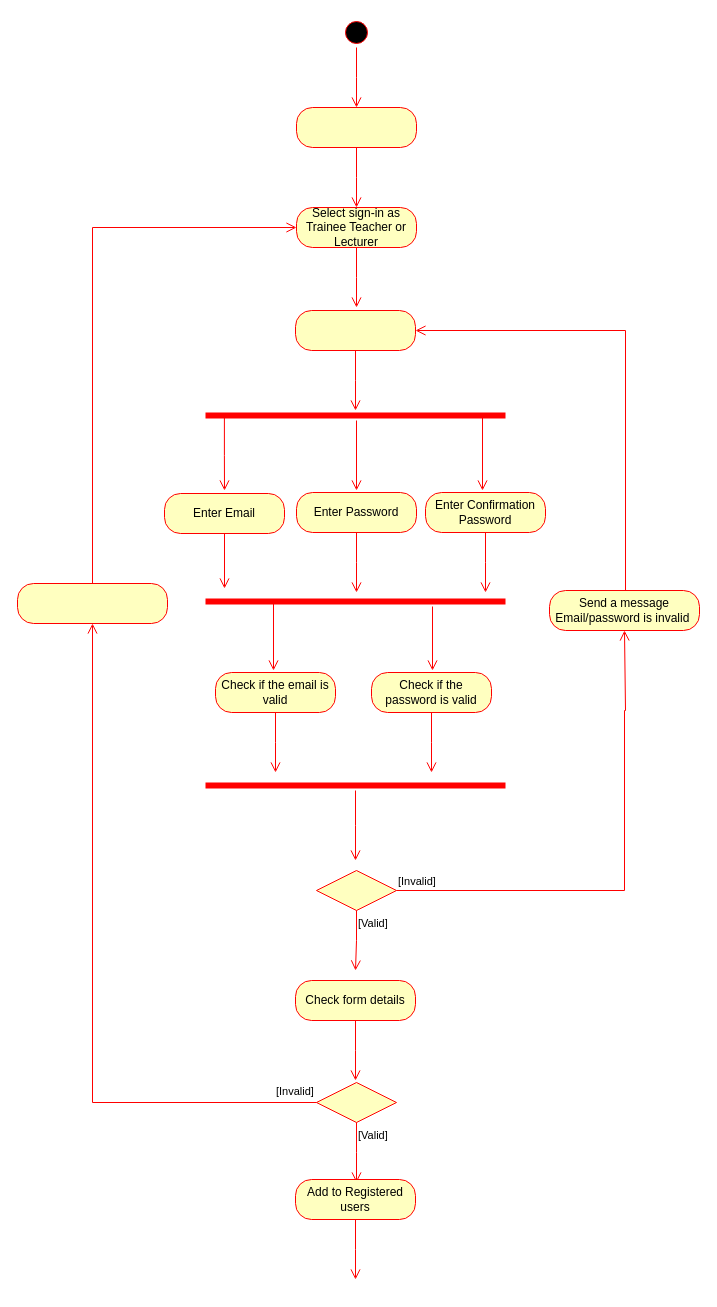
This 717x1307 diagram has some shape labels left out. Here are the shapes that lost their labels. From the top down, the centre of each, then its label:
At point (356, 127): "Go to the online teacher trainer".
At point (355, 330): "Fill the form".
At point (92, 603): "Send a email form details are invalid".
